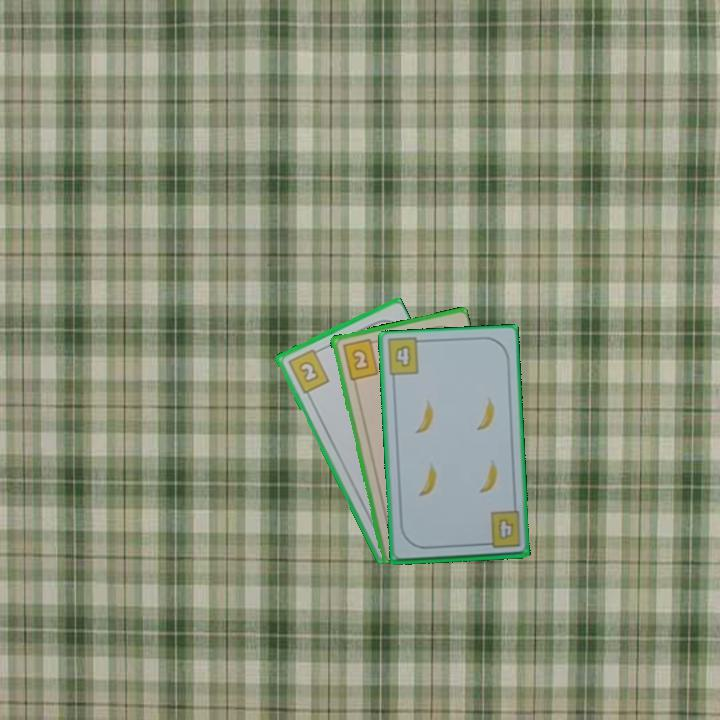2b: (284, 345, 332, 396), (339, 335, 381, 382)
4b: (479, 508, 524, 551), (391, 342, 414, 369)
